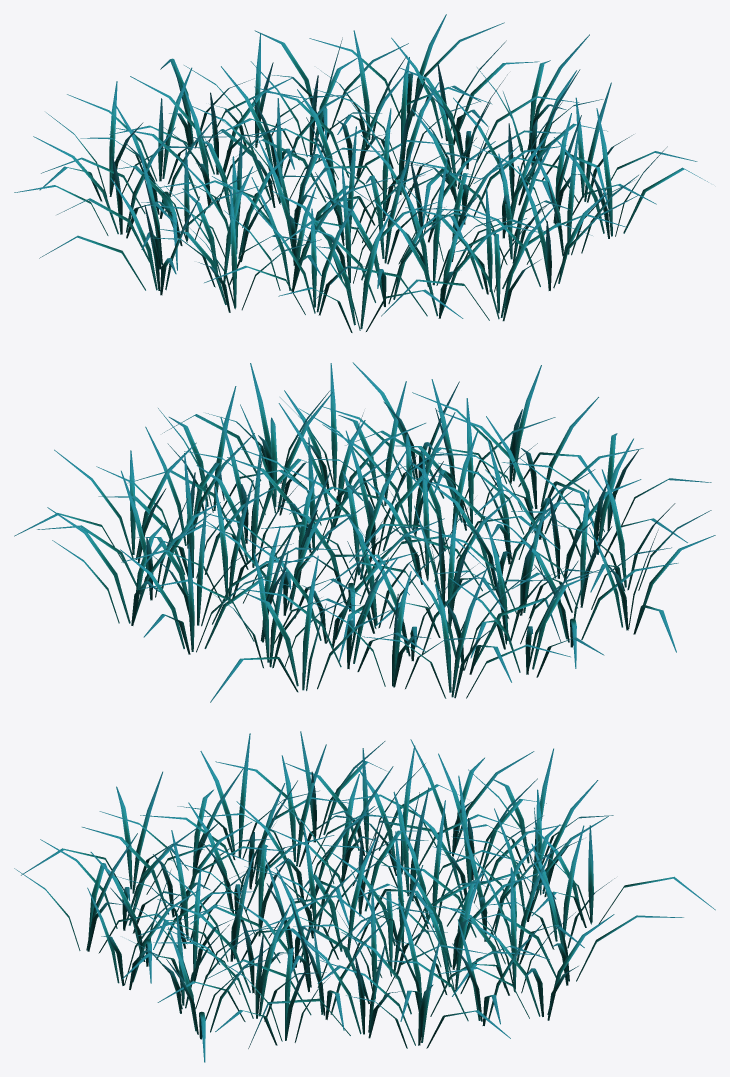
The model's file is grass_blue.glb.
3 views of the same model, one above another, from view 1: azimuth 30°, elevation 25°; view 2: azimuth 150°, elevation 25°; view 3: azimuth 270°, elevation 25° (orthographic). The views are drawn at different scales.
Parts seen in each view (by area): view 1: Polygon; view 2: Polygon; view 3: Polygon.
Boxes of the visible parts, x1,y1,x2,y2 form: Polygon: [14, 14, 708, 332]; Polygon: [14, 362, 715, 702]; Polygon: [14, 731, 715, 1062].
Bounding box in the file's own units: 0.7883 × 0.1368 × 0.8147.
1 material, 1 textured.
